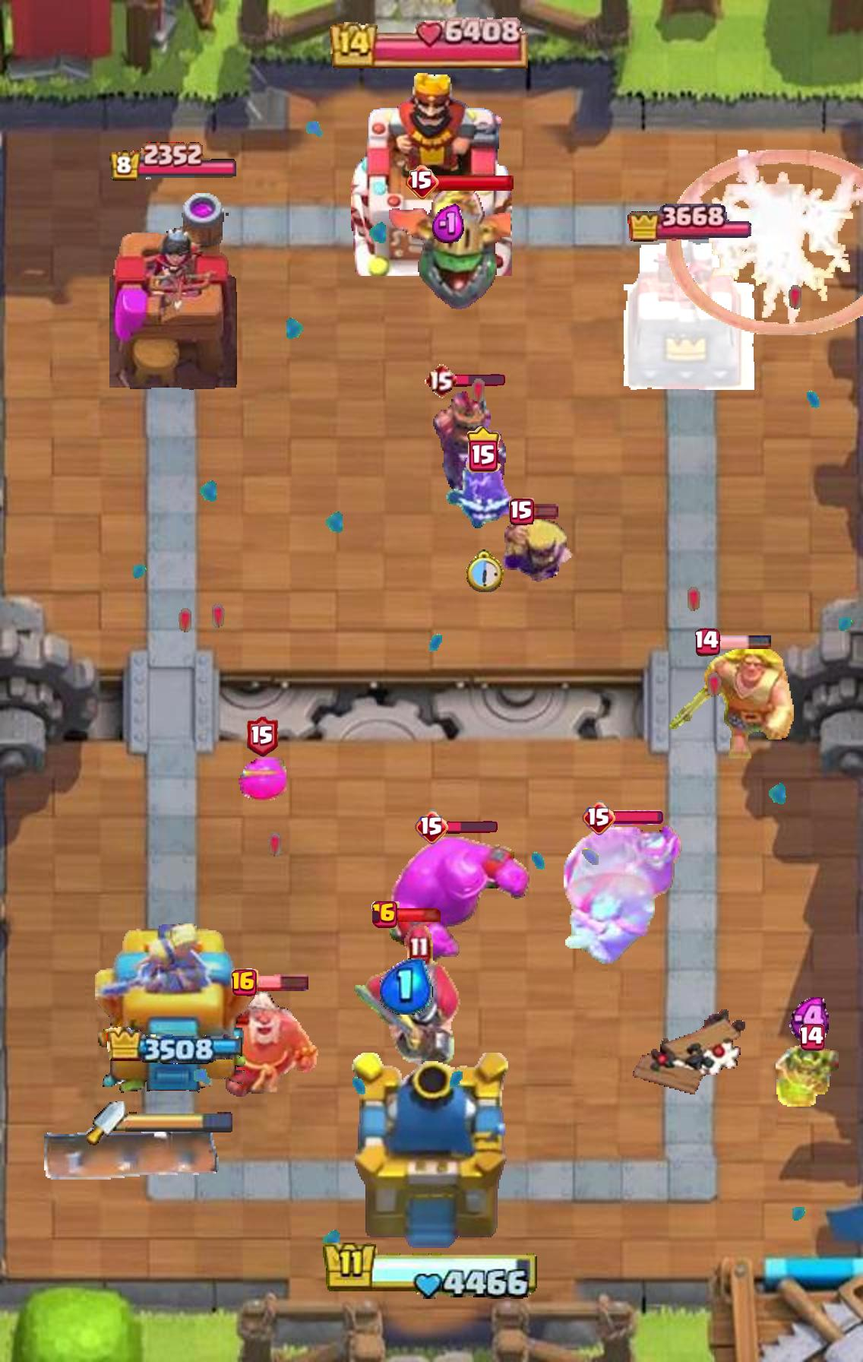bar: (435, 173, 514, 192), (254, 974, 309, 992), (717, 635, 772, 650), (396, 907, 444, 923), (613, 811, 663, 825), (446, 820, 498, 833), (454, 374, 505, 386), (530, 503, 559, 520)
bar-level: (465, 427, 501, 473), (246, 717, 278, 757), (582, 800, 617, 835), (415, 809, 450, 844), (405, 165, 439, 200), (424, 362, 457, 398), (372, 901, 400, 929), (231, 968, 258, 996), (695, 628, 721, 657), (800, 1023, 826, 1051), (509, 498, 534, 525)
